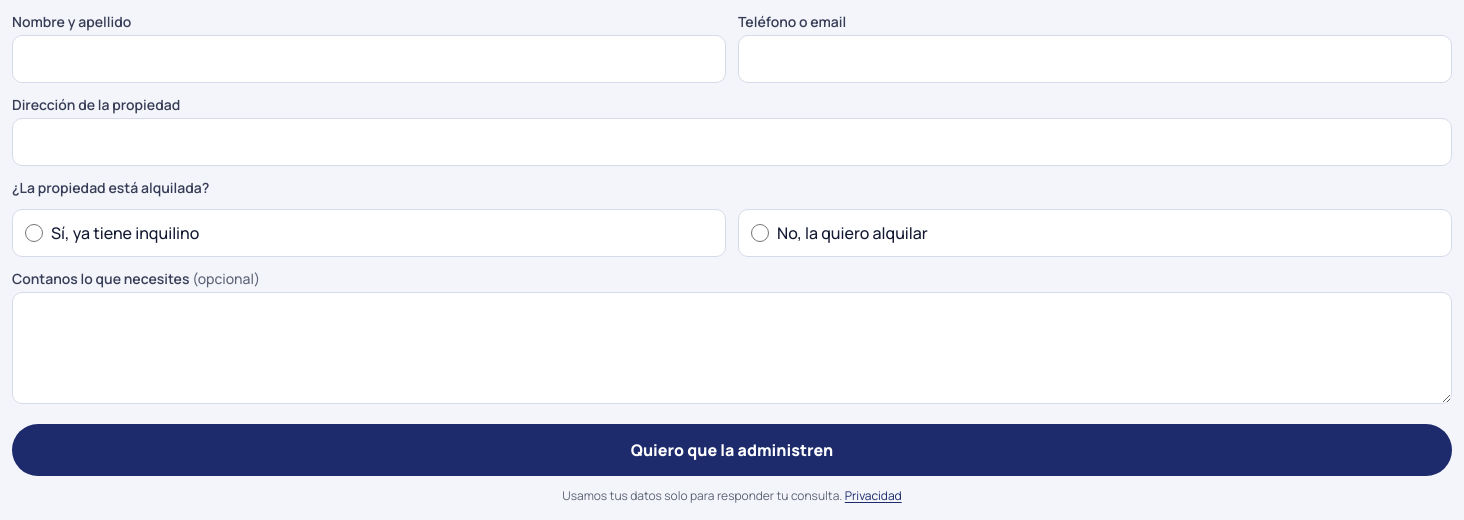
Test: RentalManagementForm › submits the property data and confirms once sent
Type "Ana García" into the field labelled "Nombre y apellido".
click(369, 59); type("Ana García")  # box top-left (12, 35), bottom-right (726, 83)
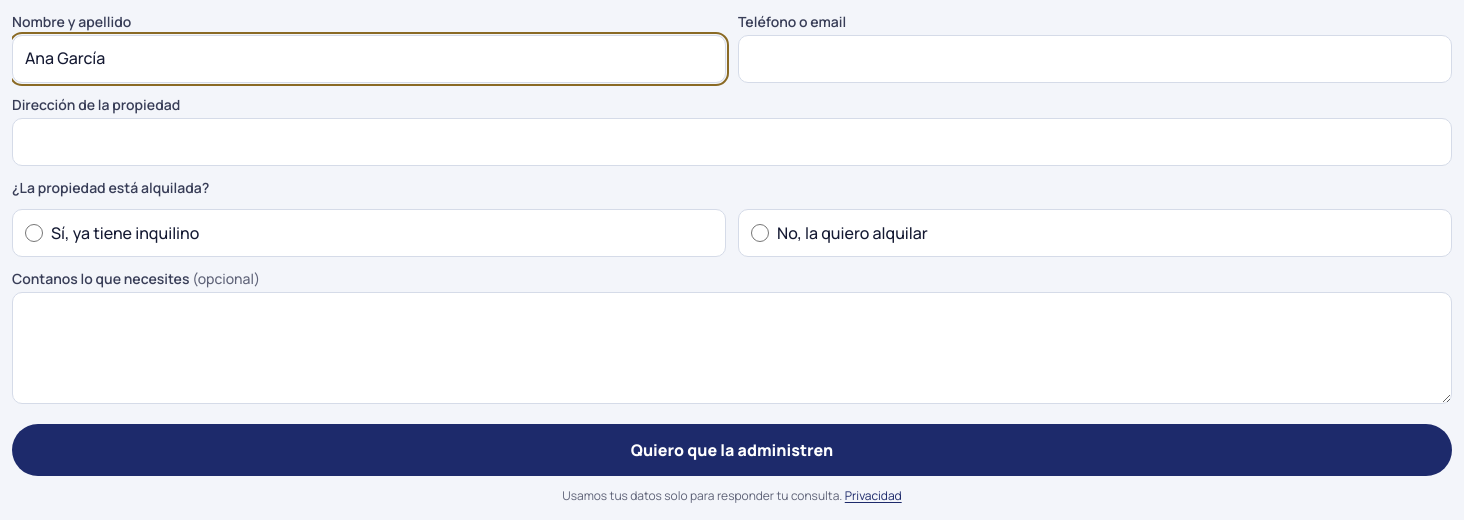
Type "11 3896-7363" into the field labelled "Teléfono o email".
click(1095, 59); type("11 3896-7363")  # box top-left (738, 35), bottom-right (1452, 83)
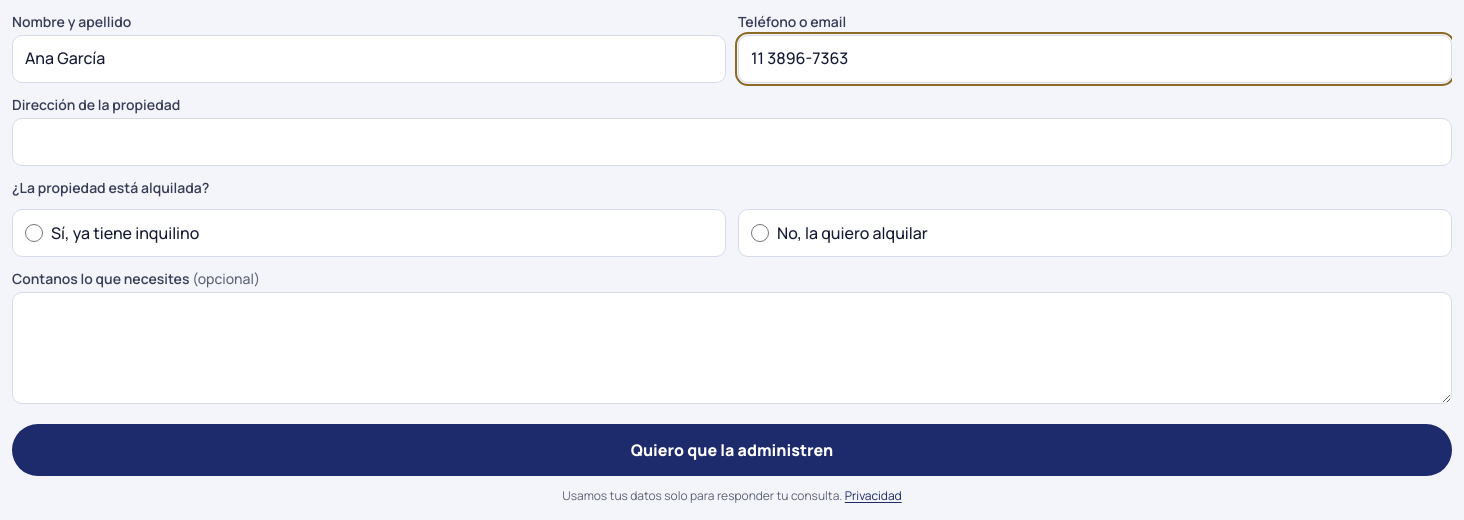
Type "Av. Rivadavia 1234" into the field labelled "Dirección de la propiedad".
click(732, 142); type("Av. Rivadavia 1234")  # box top-left (12, 118), bottom-right (1452, 166)
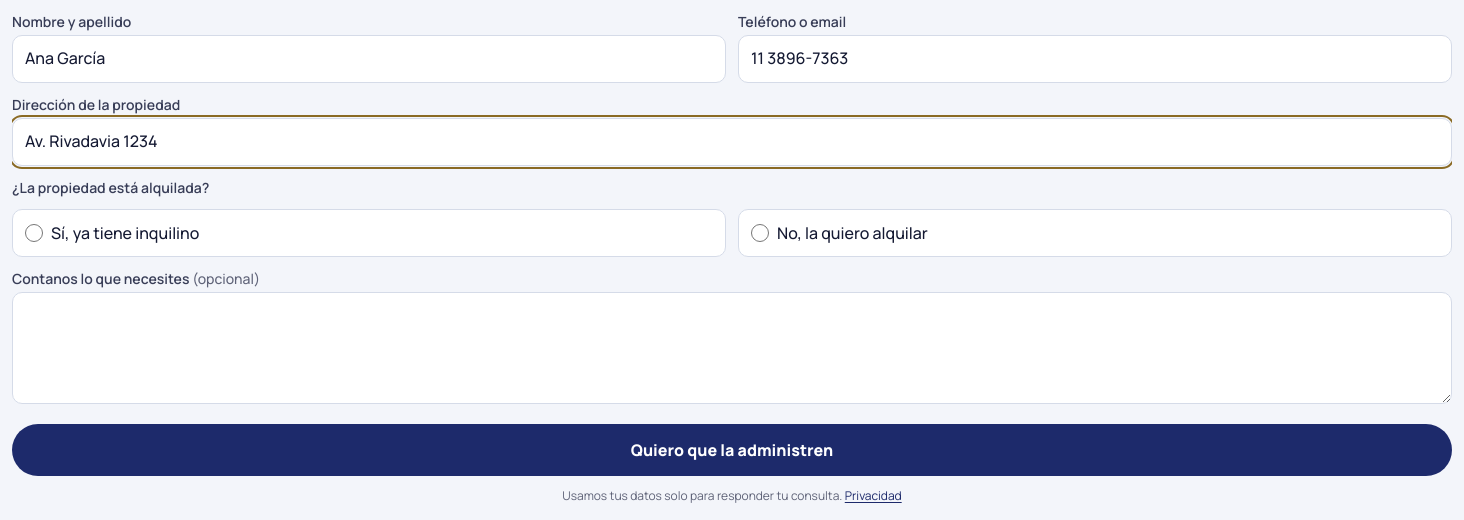
Click the radio button labelled "No, la quiero alquilar".
click(760, 233)  # box top-left (751, 224), bottom-right (769, 242)
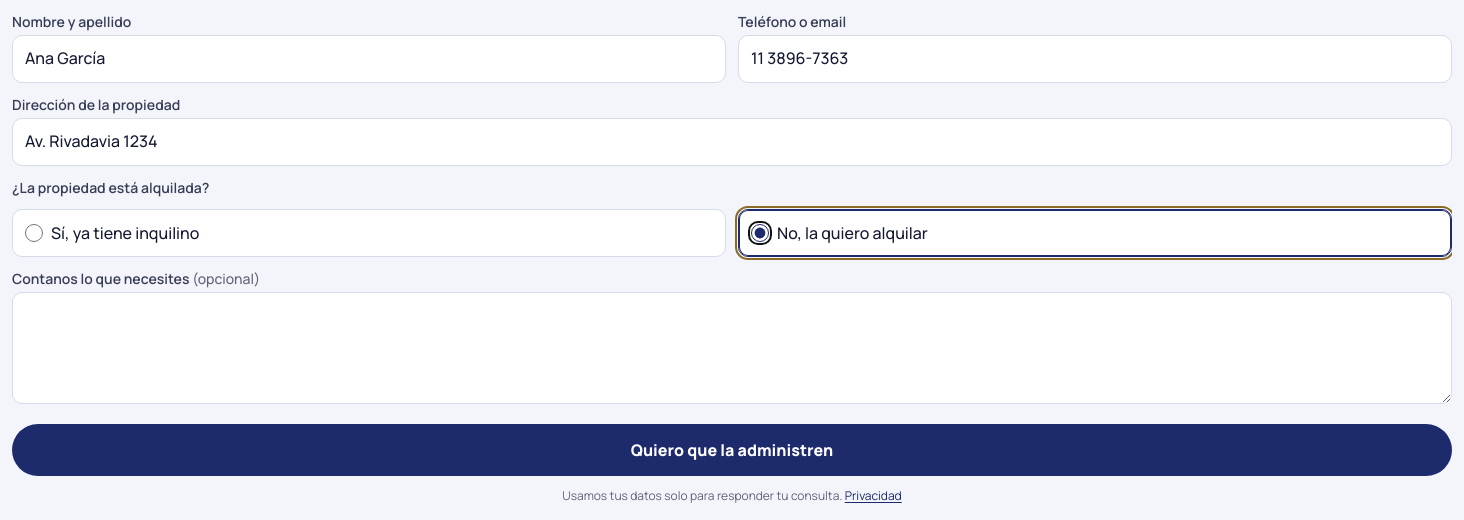
Click the button "Quiero que la administren".
click(732, 450)  # box top-left (12, 424), bottom-right (1452, 476)
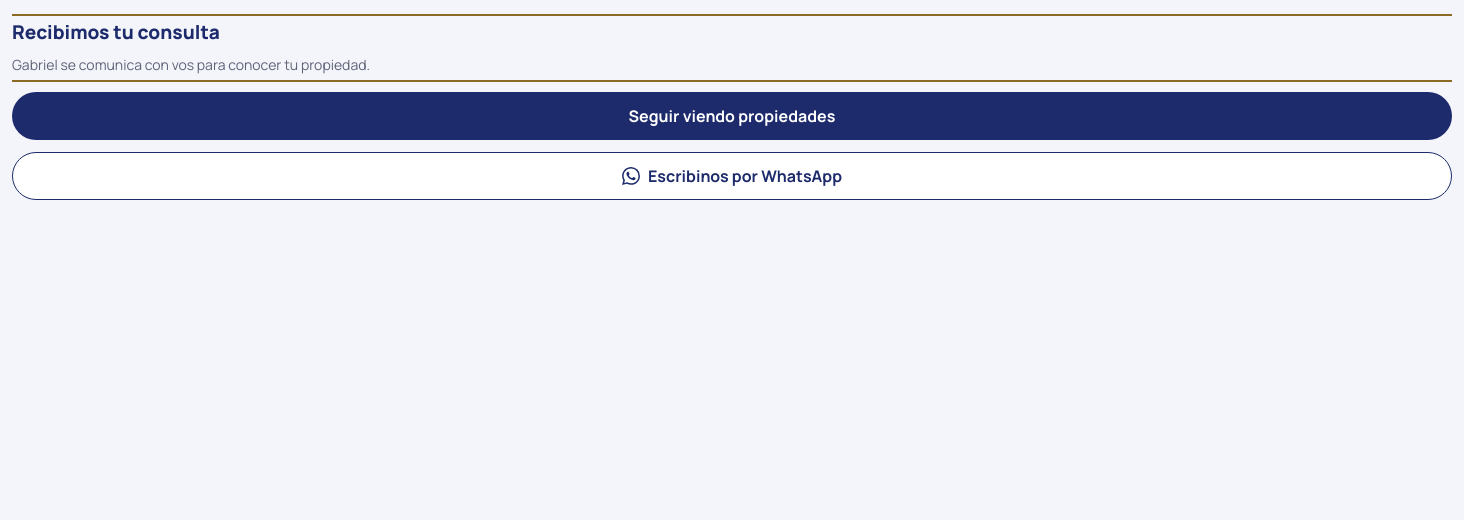
Expected: the message shows "Recibimos tu consulta", top-left (12, 19), bottom-right (220, 45)
Expected: the message shows "Gabriel se comunica con vos para conocer tu propiedad.", top-left (12, 55), bottom-right (370, 74)
